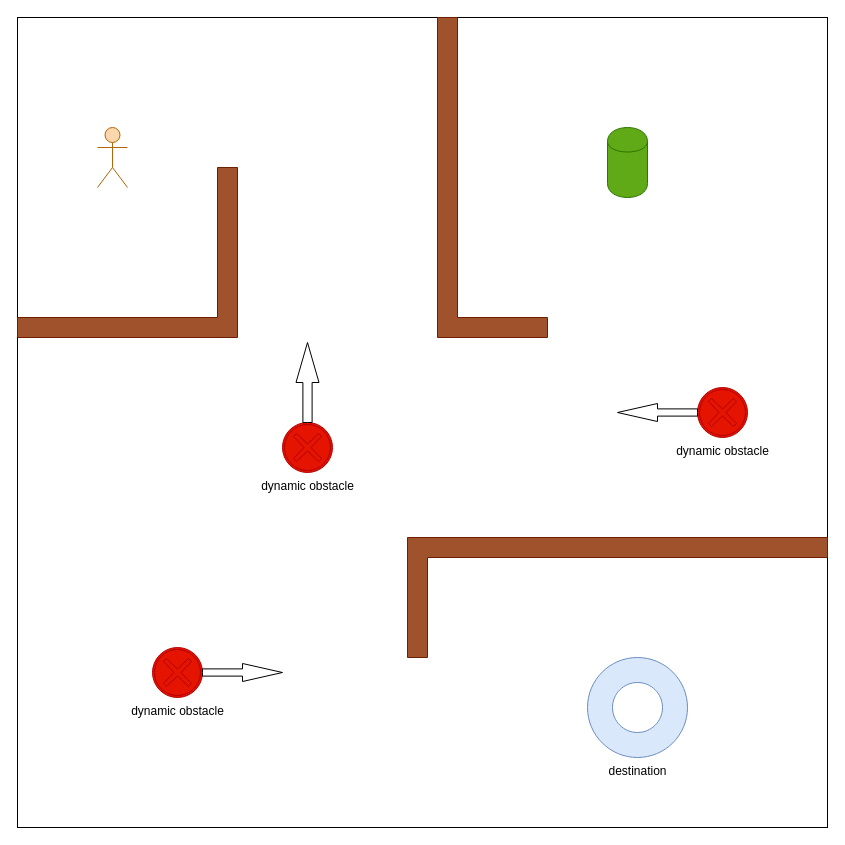
This 845x845 diagram has some shape labels left out. The centre of each missing label's shape, as x and y in pixels:
"agent" belongs at pixel 112 157.
"object" belongs at pixel 627 162.
